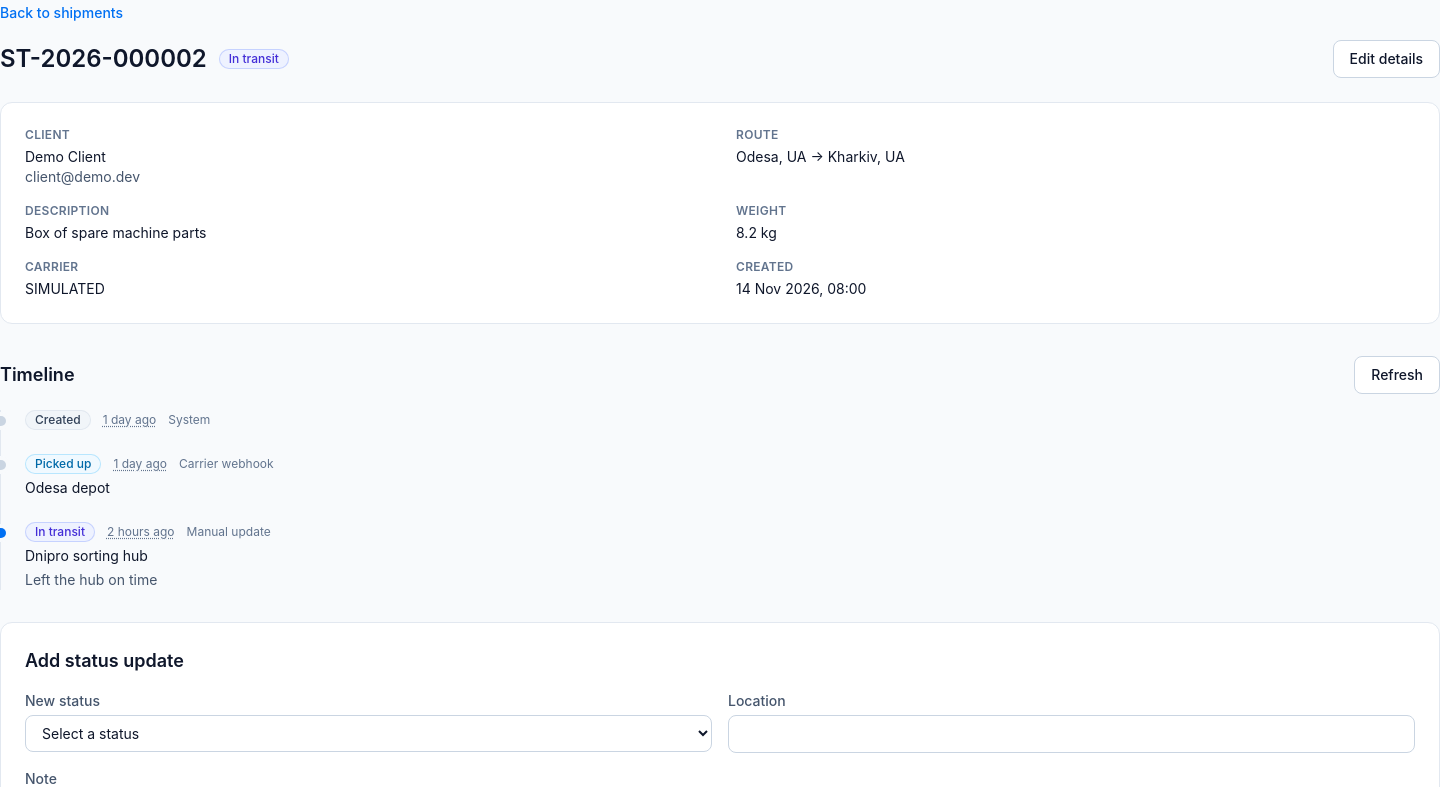
Test: ShipmentDetailView: edit details › shows the form instead of the card when a dispatcher clicks "Edit details"
Check: the heading "ST-2026-000002" is shown, box [0,43,207,75]
Check: the element named "Shipment details" is shown, box [0,102,1439,324]
Click the button "Edit details" at (1386, 59), box [1333,40,1439,78]
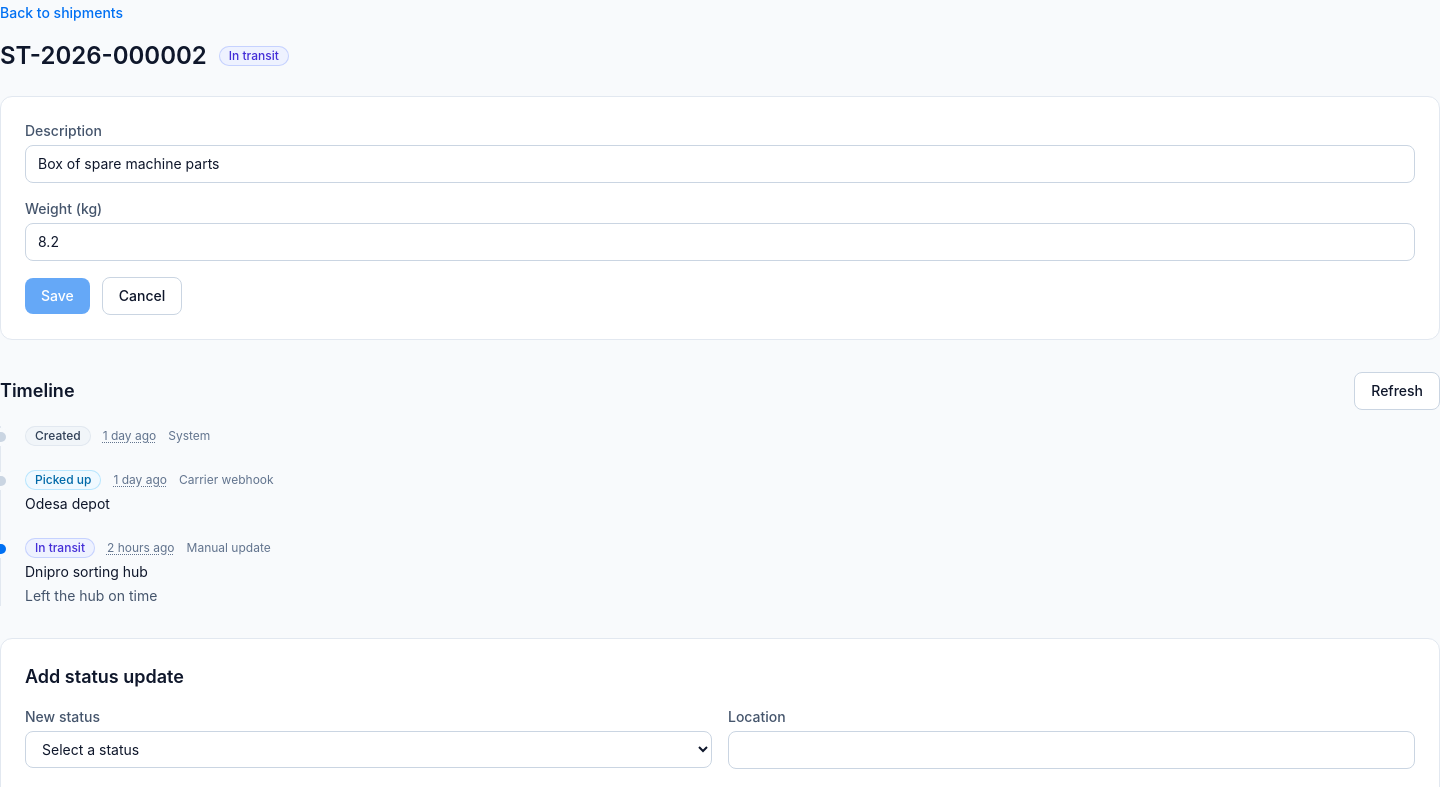
Check: the field labelled "Description" holds "Box of spare machine parts", box [25,145,1415,183]
